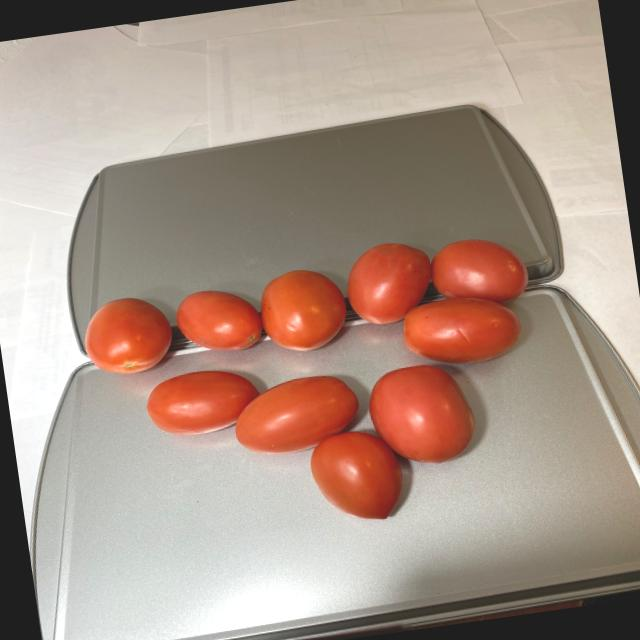tomato: (79, 223, 562, 564)
